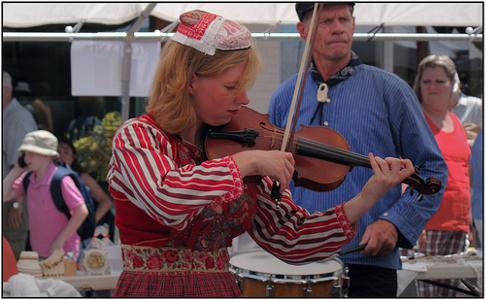person: (110, 10, 418, 298)
